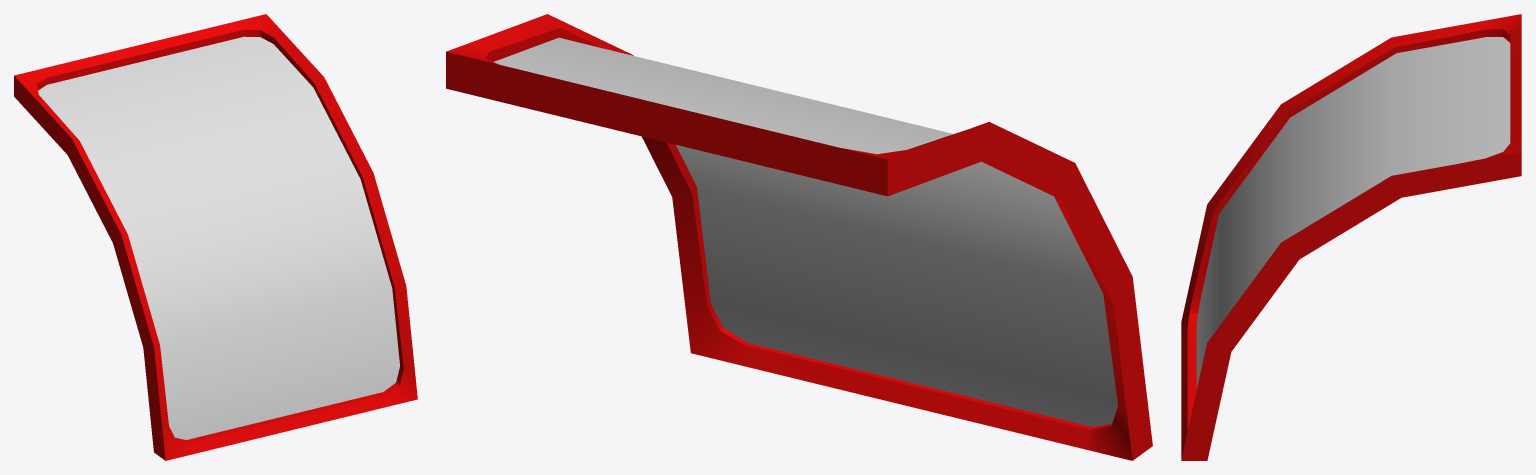
The model's file is window_light_edge.fbx.
The picture shows the model from 3 angles, left to right: view 1: azimuth 30°, elevation 25°; view 2: azimuth 150°, elevation 25°; view 3: azimuth 270°, elevation 25°; orthographic projection. The views are drawn at different scales.
Visible parts, largest first — view 1: window_light_glass, windows_light_frame; view 2: window_light_glass, windows_light_frame; view 3: window_light_glass, windows_light_frame.
Part boxes in pixels (<box>): window_light_glass: <box>38,36,399,439</box>; windows_light_frame: <box>14,14,417,460</box>; window_light_glass: <box>494,37,1117,426</box>; windows_light_frame: <box>446,14,1152,460</box>; window_light_glass: <box>1196,37,1510,389</box>; windows_light_frame: <box>1181,14,1521,460</box>.
Bounding box in the file's own units: 50 × 52 × 52.
